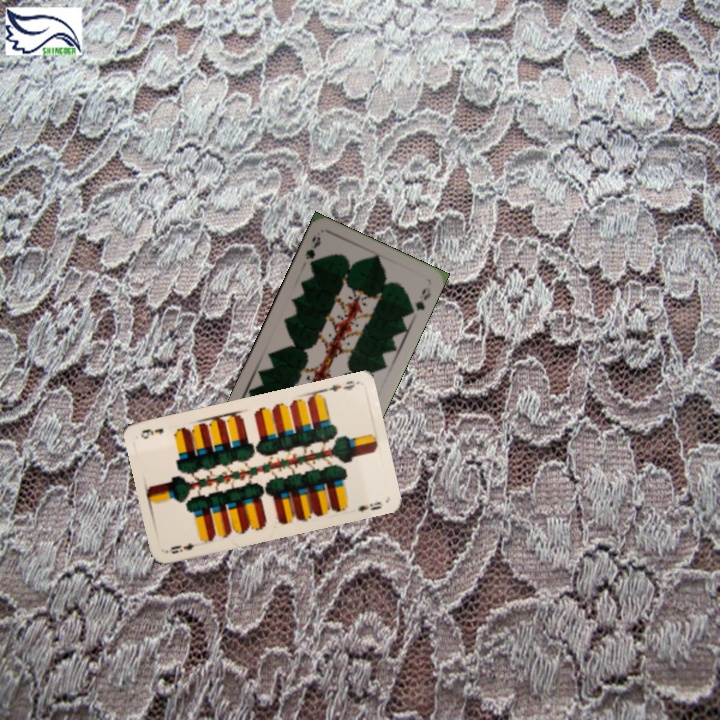E9: (320, 376, 360, 394), (163, 539, 197, 556)
G9: (301, 232, 323, 271)
